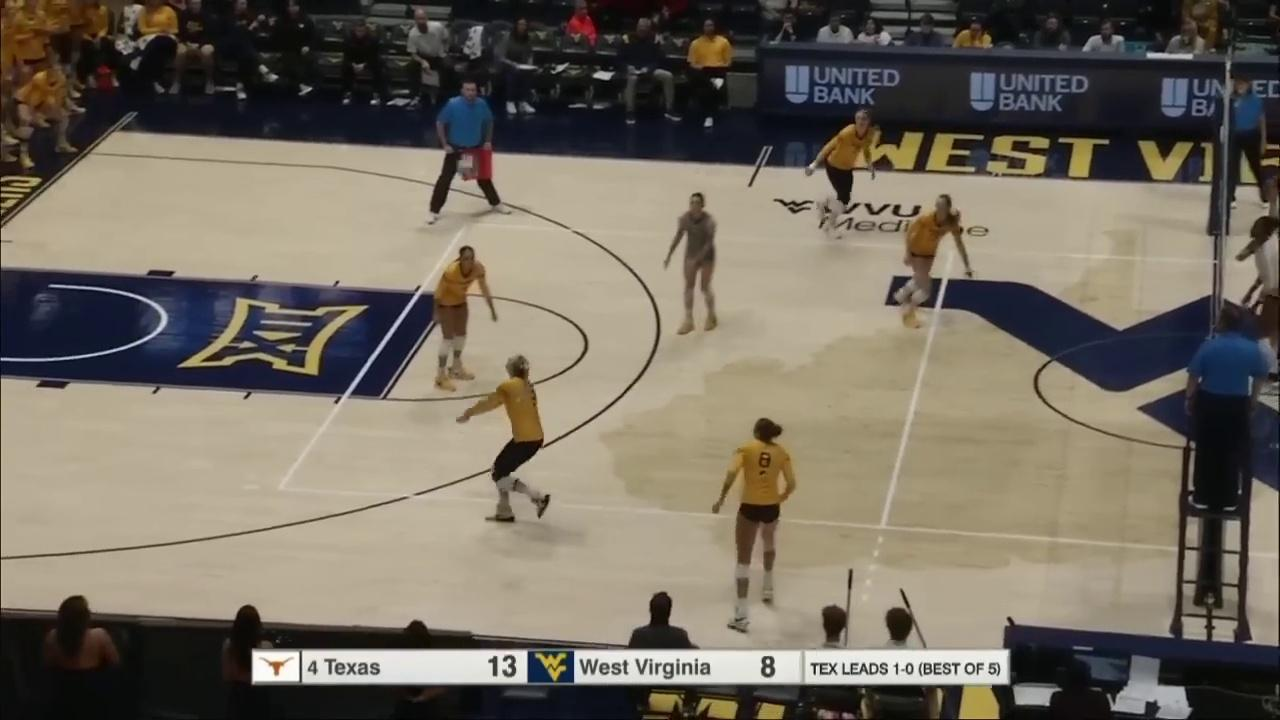player: (711, 419, 798, 631), (461, 353, 553, 524), (895, 195, 973, 329), (434, 246, 499, 388), (806, 107, 877, 235), (663, 192, 719, 335), (1239, 217, 1280, 395)
refree: (1185, 306, 1265, 509), (427, 81, 513, 225), (1227, 78, 1273, 207)
